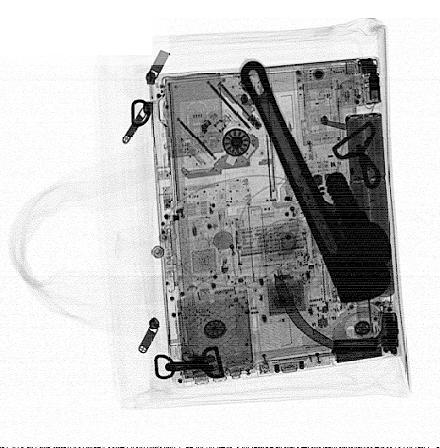Wrench: (235, 56, 394, 306)
